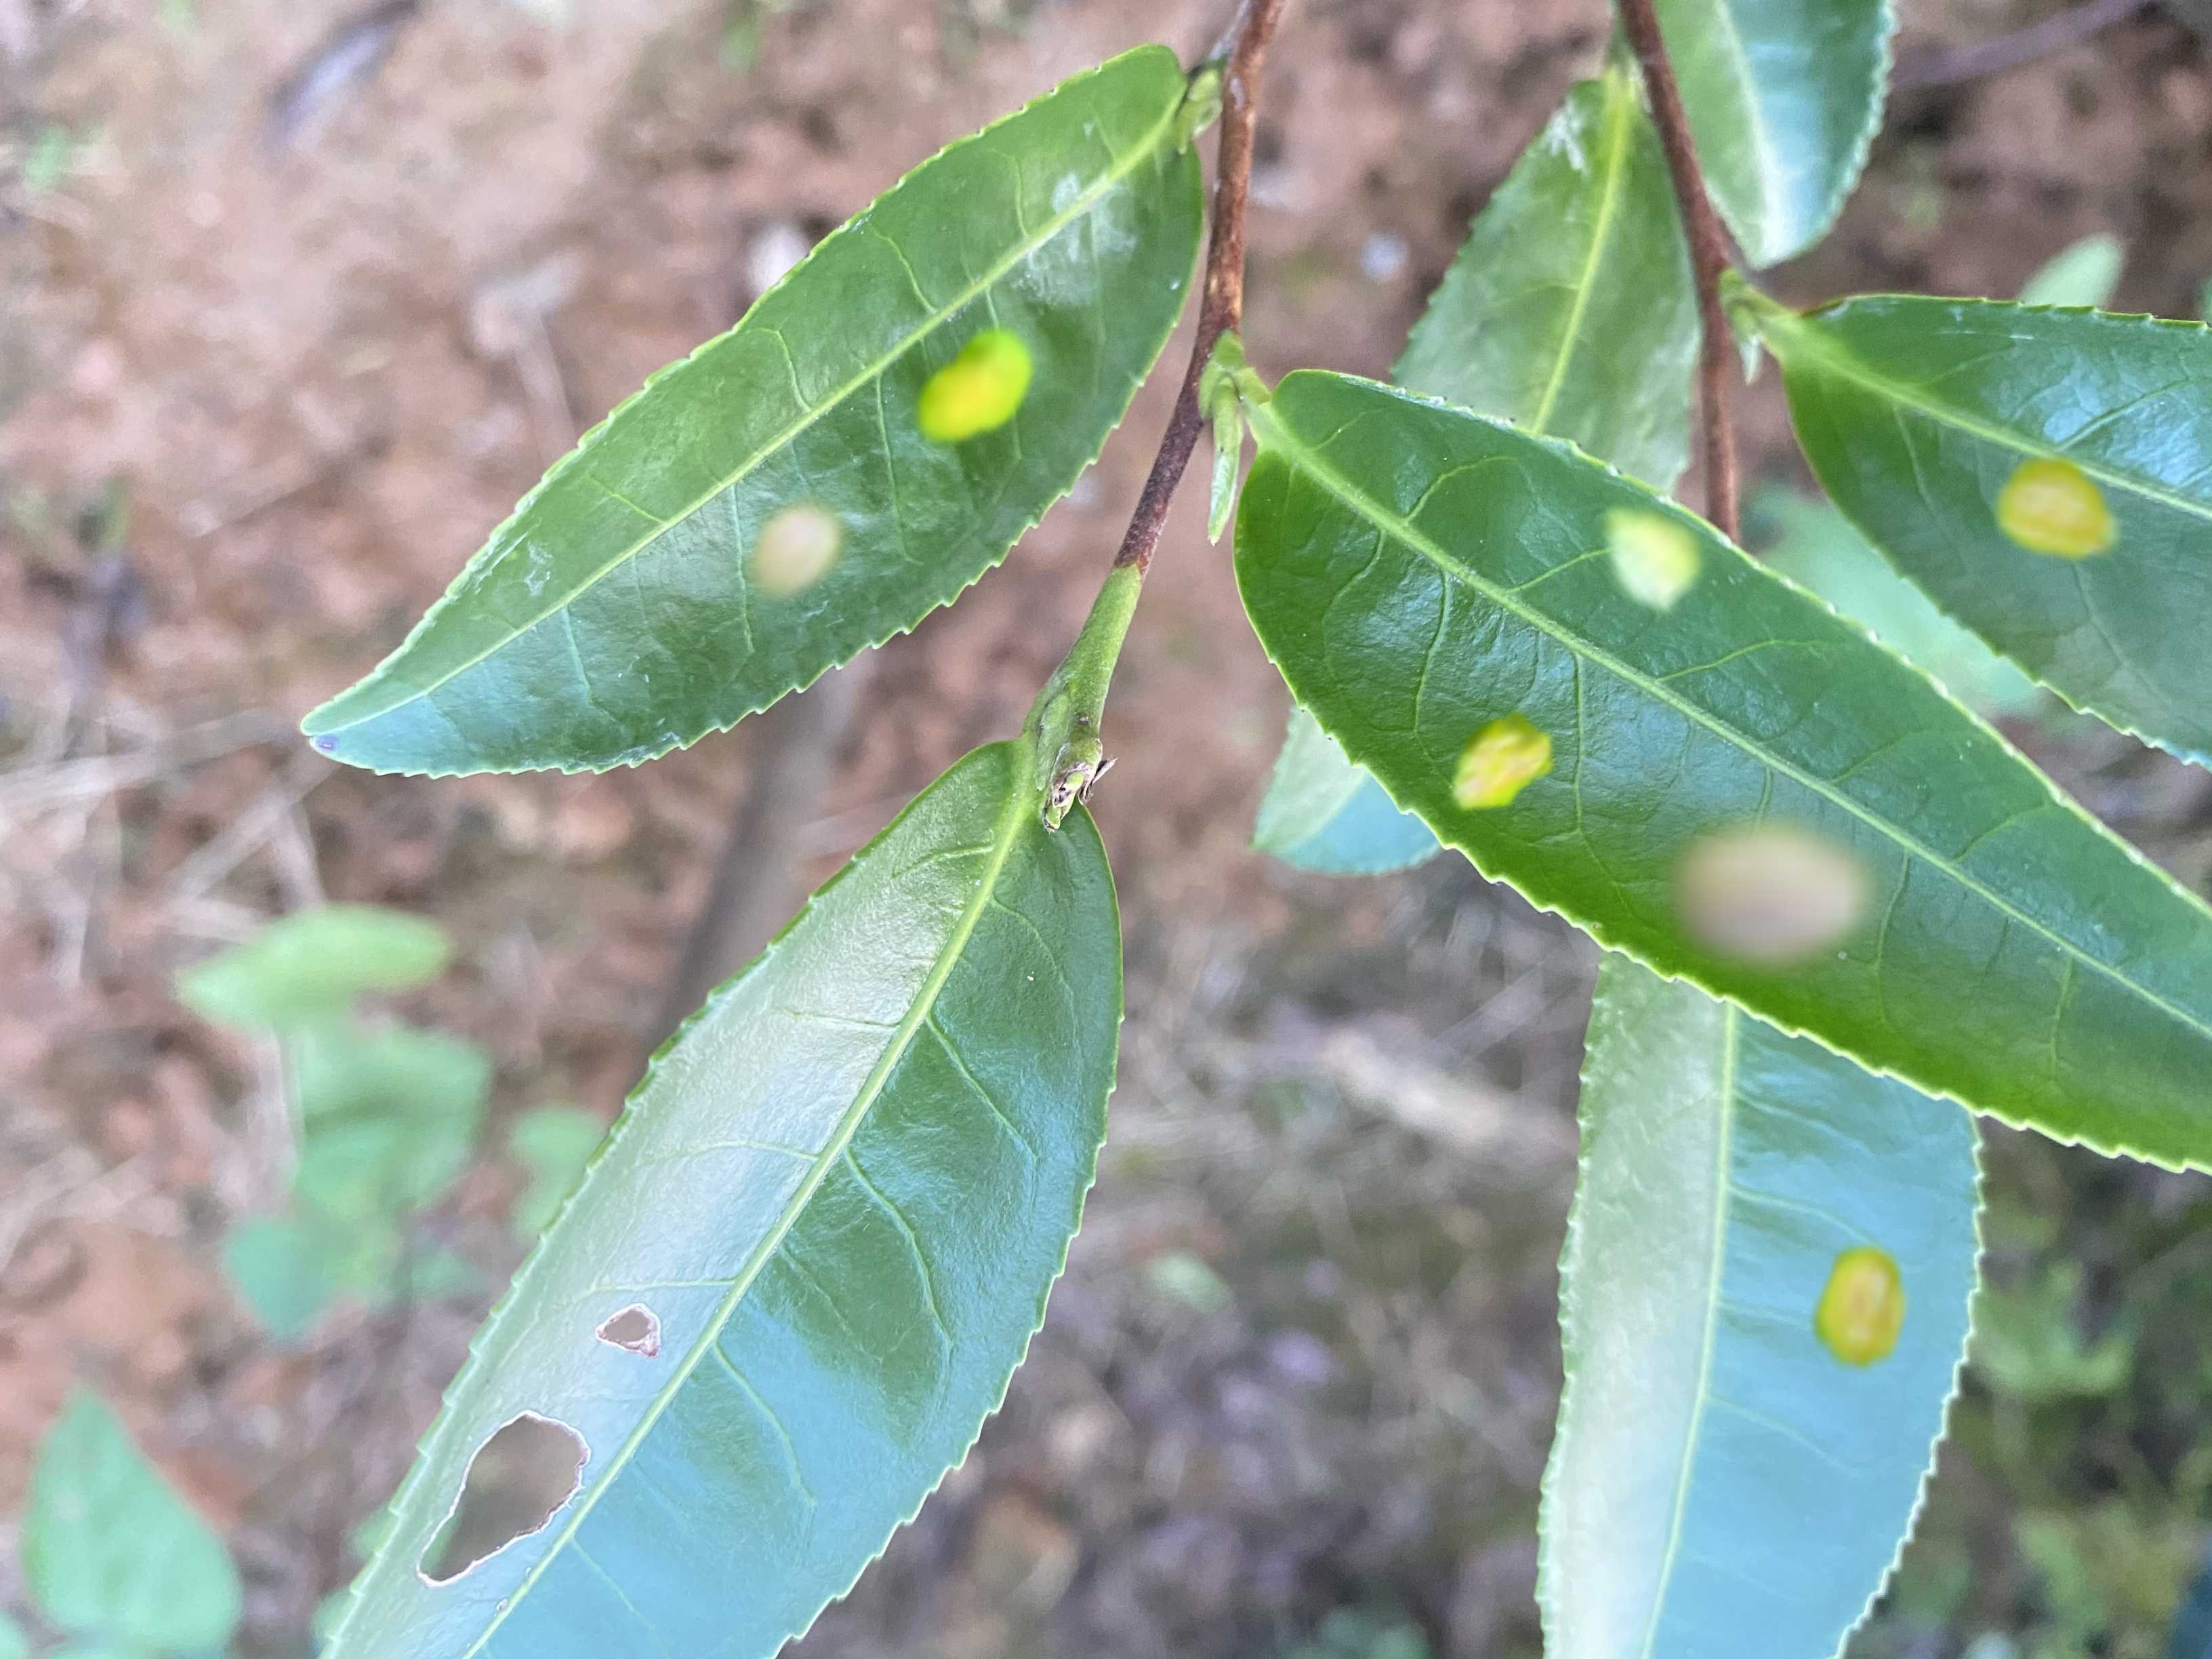chabing_high: (1235, 368, 2210, 1176), (300, 45, 1200, 782)
chabing_low: (1529, 950, 1993, 1659), (1782, 295, 2210, 765)
chihuo_high: (310, 741, 1130, 1659)
